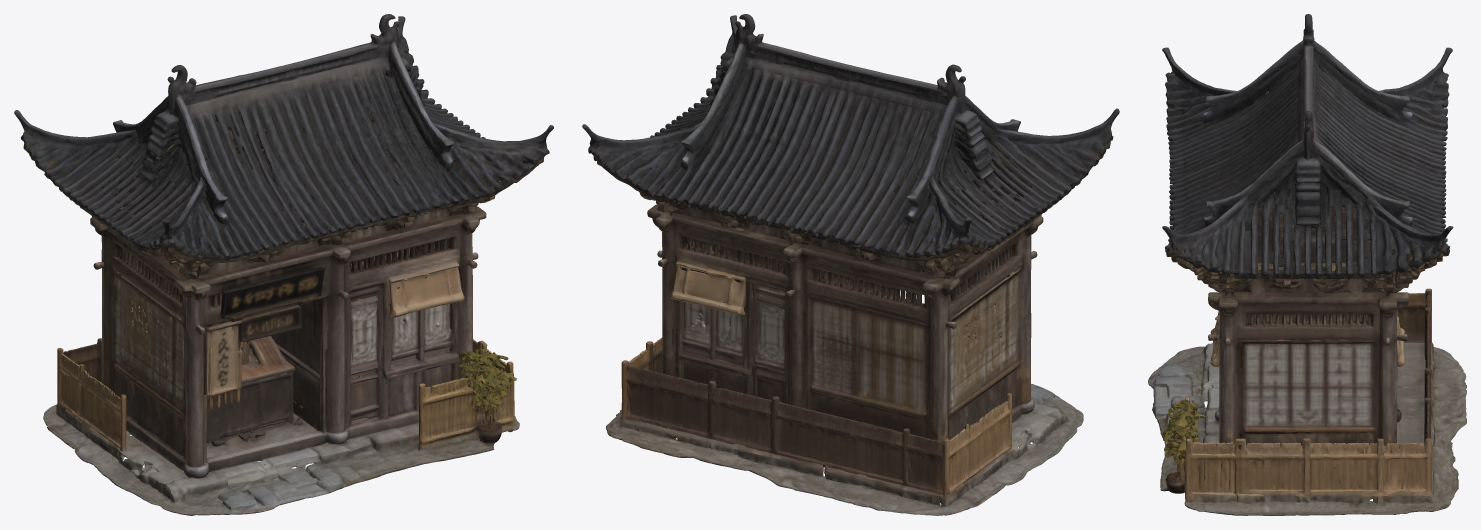
The model's file is teahouse.glb.
The picture shows the model from 3 angles, left to right: view 1: azimuth 30°, elevation 25°; view 2: azimuth 150°, elevation 25°; view 3: azimuth 270°, elevation 25°; orthographic projection. The views are drawn at different scales.
Parts seen in each view (by area): view 1: world; view 2: world; view 3: world.
Boxes of the visible parts, x1,y1,x2,y2 form: world: [14, 14, 553, 515]; world: [582, 14, 1119, 515]; world: [1148, 14, 1466, 515].
Size of the model in its own units: 4.5 by 4.25 by 3.35.
1 material, 1 textured.
